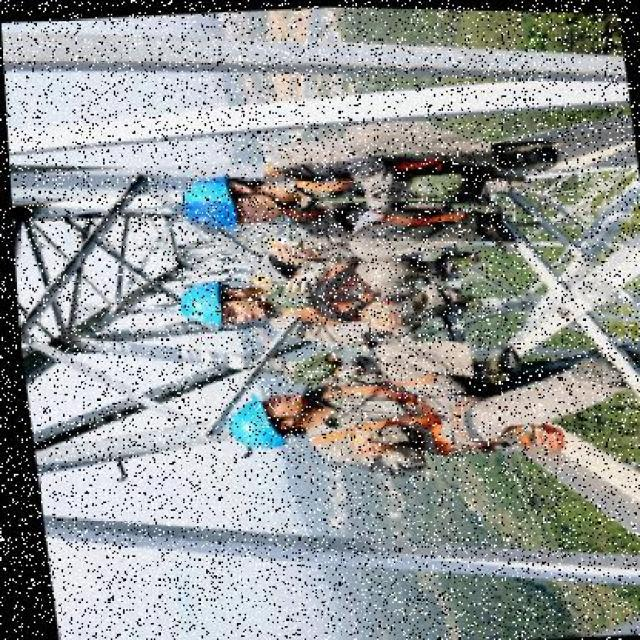helmet: (173, 172, 234, 232), (169, 283, 229, 331), (225, 395, 277, 449)
